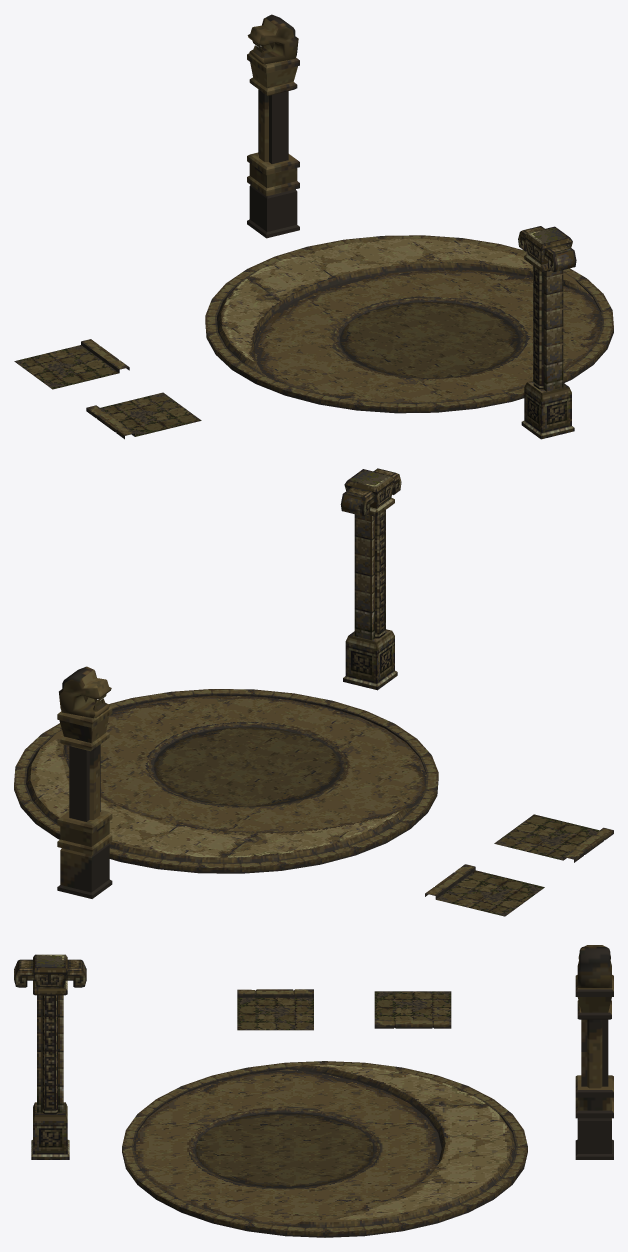
File: EnvMdrMD_Ruins_C_Grd_A_BK.FBX
The picture shows the model from 3 angles, top to bottom: view 1: azimuth 30°, elevation 25°; view 2: azimuth 150°, elevation 25°; view 3: azimuth 270°, elevation 25°; orthographic projection. The views are drawn at different scales.
Visible parts, largest first — view 1: EnvMdrMD_Ruins_C_Grd_Deco_A, EnvMdrMD_Ruins_C_Pillar_B, EnvMdrMD_Ruins_C_Pillar_A, EnvMdrMD_Ruins_C_Grd_A_BK, EnvMdrMD_Ruins_C_Grd_A_FR; view 2: EnvMdrMD_Ruins_C_Grd_Deco_A, EnvMdrMD_Ruins_C_Pillar_B, EnvMdrMD_Ruins_C_Pillar_A, EnvMdrMD_Ruins_C_Grd_A_BK, EnvMdrMD_Ruins_C_Grd_A_FR; view 3: EnvMdrMD_Ruins_C_Grd_Deco_A, EnvMdrMD_Ruins_C_Pillar_B, EnvMdrMD_Ruins_C_Pillar_A, EnvMdrMD_Ruins_C_Grd_A_FR, EnvMdrMD_Ruins_C_Grd_A_BK.
Boxes of the visible parts, <box> form: EnvMdrMD_Ruins_C_Grd_Deco_A: <box>205,235,613,413</box>; EnvMdrMD_Ruins_C_Pillar_B: <box>247,14,299,238</box>; EnvMdrMD_Ruins_C_Pillar_A: <box>518,226,576,439</box>; EnvMdrMD_Ruins_C_Grd_A_BK: <box>14,339,129,389</box>; EnvMdrMD_Ruins_C_Grd_A_FR: <box>86,392,201,439</box>; EnvMdrMD_Ruins_C_Grd_Deco_A: <box>14,689,438,873</box>; EnvMdrMD_Ruins_C_Pillar_B: <box>57,666,112,898</box>; EnvMdrMD_Ruins_C_Pillar_A: <box>340,468,401,690</box>; EnvMdrMD_Ruins_C_Grd_A_BK: <box>425,864,544,916</box>; EnvMdrMD_Ruins_C_Grd_A_FR: <box>494,814,613,862</box>; EnvMdrMD_Ruins_C_Grd_Deco_A: <box>122,1061,527,1237</box>; EnvMdrMD_Ruins_C_Pillar_B: <box>575,945,613,1159</box>; EnvMdrMD_Ruins_C_Pillar_A: <box>14,954,86,1159</box>; EnvMdrMD_Ruins_C_Grd_A_FR: <box>237,989,313,1030</box>; EnvMdrMD_Ruins_C_Grd_A_BK: <box>374,991,451,1028</box>.
Bounding box in the file's own units: 1522 × 590 × 1566.
4 materials, 4 textured.
